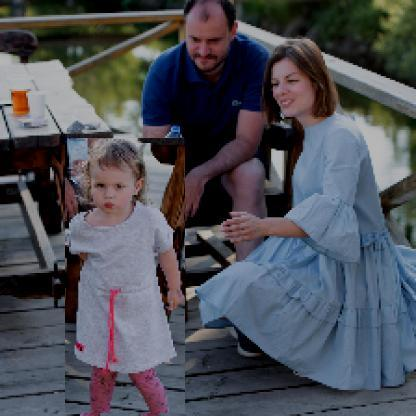child: (66, 139, 187, 415)
